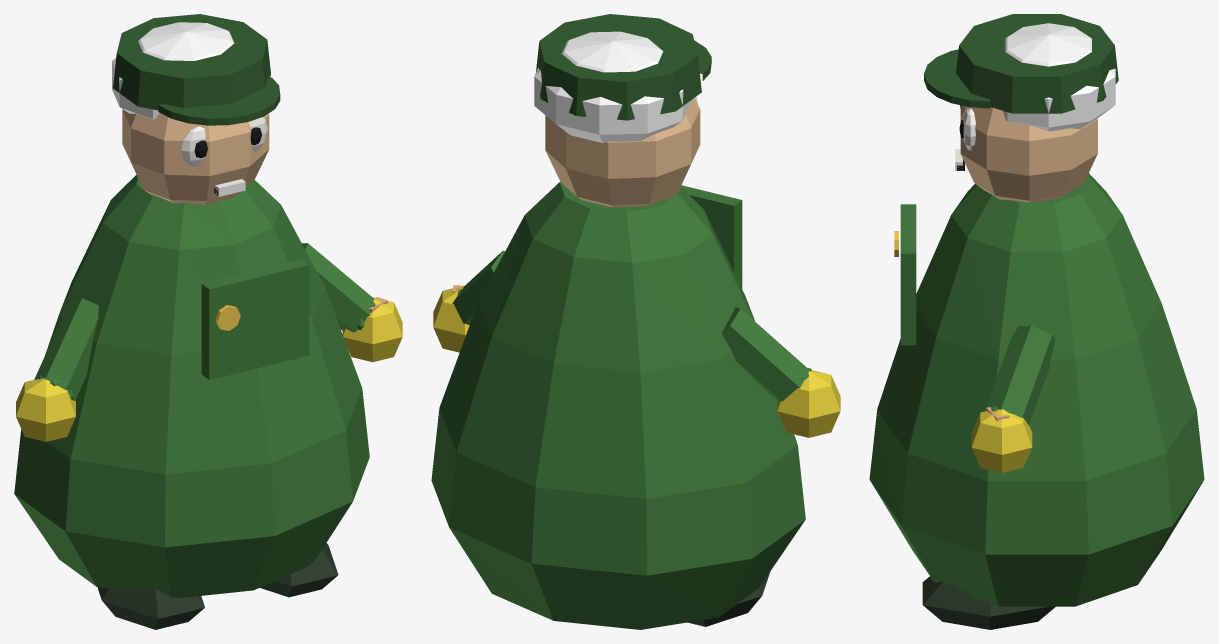
The model's file is npc_cuidador.glb.
3 views of the same model, side by side, from view 1: azimuth 30°, elevation 25°; view 2: azimuth 150°, elevation 25°; view 3: azimuth 270°, elevation 25° (orthographic). The views are drawn at different scales.
Visible parts, largest first — view 1: body_keeper_overalls, cap_keeper_cap, head_skin_trigo, arms_keeper_overalls, legs_keeper_boots, hair_hair, glove_left_keeper_gloves, glove_right_keeper_gloves, face_white; view 2: body_keeper_overalls, cap_keeper_cap, head_skin_trigo, hair_hair, arms_keeper_overalls, glove_left_keeper_gloves, glove_right_keeper_gloves, legs_keeper_boots; view 3: body_keeper_overalls, cap_keeper_cap, head_skin_trigo, hair_hair, arms_keeper_overalls, legs_keeper_boots, glove_right_keeper_gloves.
Part boxes in pixels (box(x1,y1,x2,y2)): body_keeper_overalls: box(14, 175, 369, 597); cap_keeper_cap: box(113, 14, 280, 125); head_skin_trigo: box(122, 109, 269, 205); arms_keeper_overalls: box(34, 243, 375, 400); legs_keeper_boots: box(97, 543, 338, 629); hair_hair: box(112, 22, 234, 119); glove_left_keeper_gloves: box(16, 378, 75, 441); glove_right_keeper_gloves: box(342, 297, 402, 362); face_white: box(181, 117, 267, 166); body_keeper_overalls: box(431, 182, 805, 629); cap_keeper_cap: box(536, 14, 711, 120); head_skin_trigo: box(545, 98, 700, 207); hair_hair: box(534, 31, 690, 142); arms_keeper_overalls: box(452, 250, 811, 401); glove_left_keeper_gloves: box(777, 370, 840, 437); glove_right_keeper_gloves: box(433, 286, 469, 352); legs_keeper_boots: box(687, 571, 770, 626); body_keeper_overalls: box(869, 173, 1204, 606); cap_keeper_cap: box(924, 14, 1118, 113); head_skin_trigo: box(960, 105, 1097, 202); hair_hair: box(1003, 23, 1115, 131); arms_keeper_overalls: box(985, 325, 1055, 425); legs_keeper_boots: box(922, 576, 1055, 629); glove_right_keeper_gloves: box(971, 409, 1032, 472).
Size of the model in its own units: 1.16 by 1.57 by 0.86.
